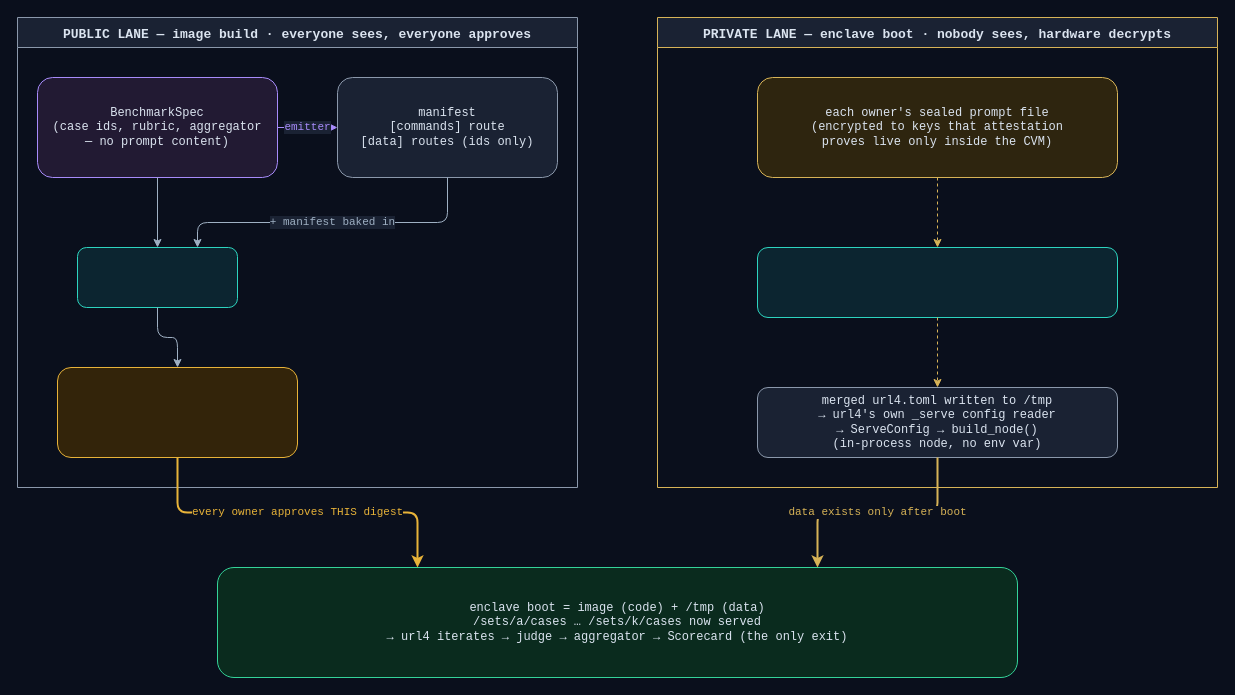
Image size: 1235x695. Some labels were removed from this diagram. Here are the shapes that lost their labels. From the top down, the centre of each, then its label:
At [157,277]: "docker build".
At [937,282]: "decrypted into /tmp/sets/<id>/cases.json".
At [177,412]: "runner image — digest (captures the whole public definition)".
